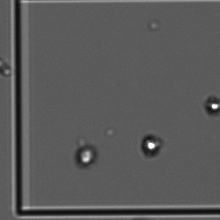Living Cell: (78, 148, 94, 164), (143, 139, 158, 154), (206, 97, 218, 114)
